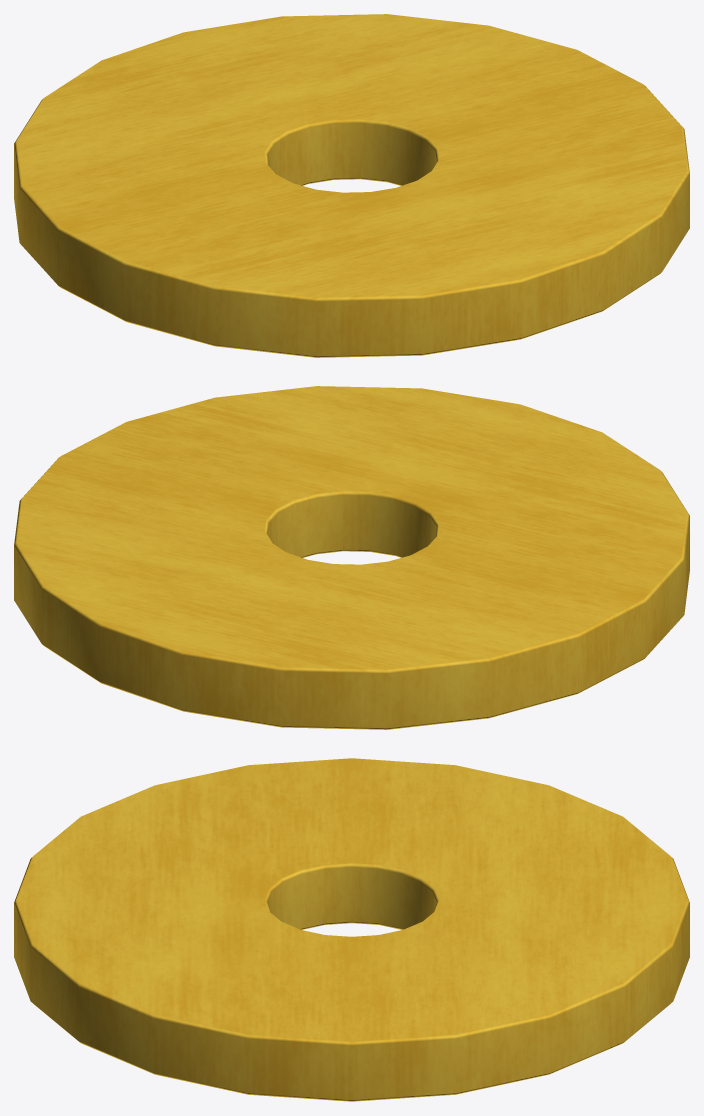
The model's file is stone4.fbx.
3 renders of one model, top to bottom at view 1: azimuth 30°, elevation 25°; view 2: azimuth 150°, elevation 25°; view 3: azimuth 270°, elevation 25°, orthographic.
Visible parts, largest first — view 1: stone; view 2: stone; view 3: stone.
Boxes of the visible parts, x1,y1,x2,y2 form: stone: (14, 14, 689, 357); stone: (14, 386, 689, 729); stone: (14, 758, 689, 1101).
Size of the model in its own units: 1.32 by 0.1295 by 1.32.
